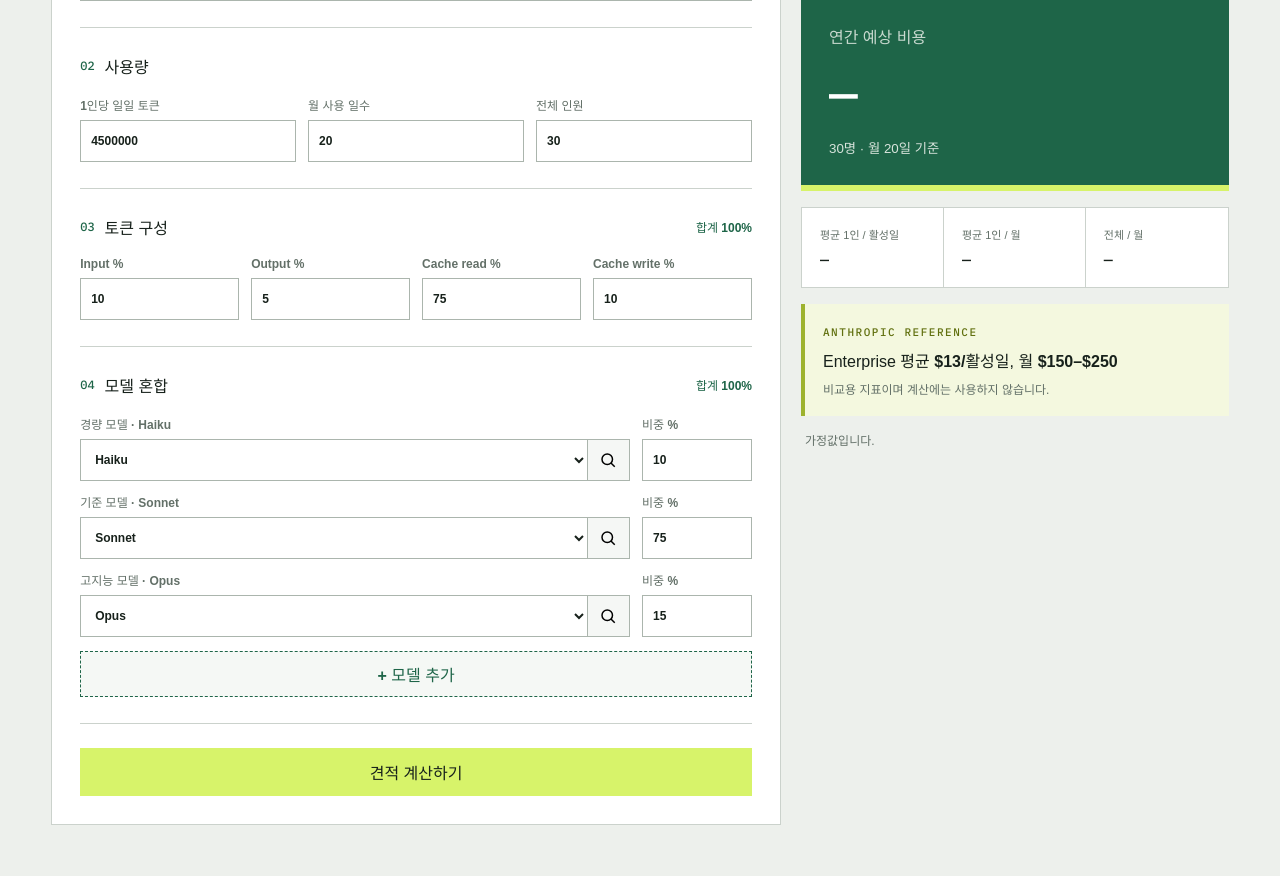
it: App › opens the selected model price table in a modal
The image size is (1280, 876).
(page scrolled)
Click the button named "Haiku 모델 단가 보기": (609, 460) [588,439,630,481]
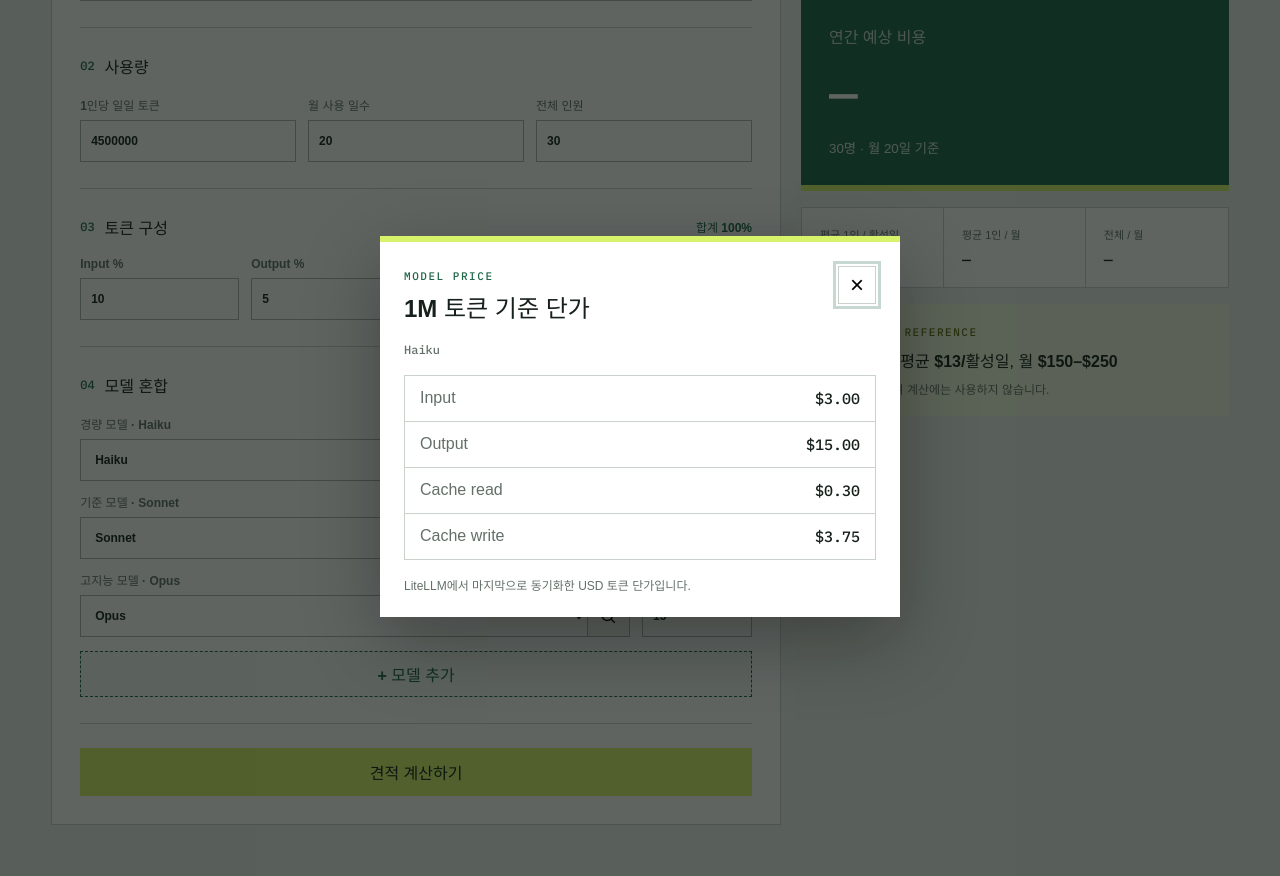
Check: the text "1M 토큰 기준 단가" is shown, box [404,288,590,324]
Check: the text "$3.00" is shown, box [815,388,860,408]
